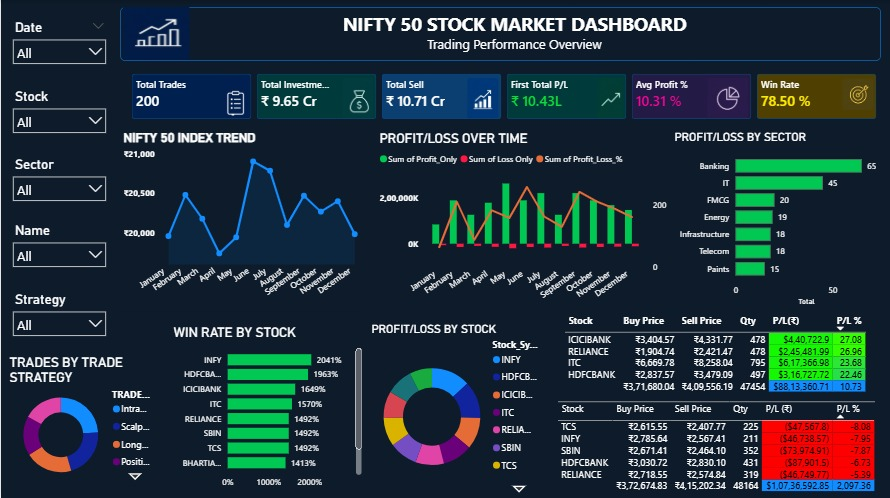

What the dashboard file says about the page in this screenshot:
{"tool":"powerbi","page":{"name":"Page 1","canvas":[1280,720],"ordinal":0},"visuals":[{"type":"shape","box":[964.8,178.6,309.6,254.9],"z":0},{"type":"shape","box":[540,178.6,424.8,266.4],"z":1000},{"type":"shape","box":[171.4,10.1,1095.8,77.8],"z":2000},{"type":"lineChart","title":"NIFTY 50 INDEX TREND","fields":{"Category":["Nifty50_Trading_Data.Date.Variation.Date Hierarchy.Month"],"Y":["Avg(Nifty50_Trading_Data.Nifty50_Index)"]},"box":[171.4,187.2,352.8,260.6],"z":8000},{"type":"lineClusteredColumnComboChart","title":"PROFIT/LOSS OVER TIME","fields":{"Y":["Sum(Nifty50_Trading_Data.Profit_Only)","Sum(Nifty50_Trading_Data.Loss Only)"],"Y2":["Sum(Nifty50_Trading_Data.Profit_Loss_%)"],"Category":["Nifty50_Trading_Data.Date.Variation.Date Hierarchy.Month"]},"box":[540,187.2,424.8,265],"z":10000},{"type":"donutChart","title":"PROFIT/LOSS BY STOCK","fields":{"Category":["Nifty50_Trading_Data.Stock_Symbol"],"Y":["CountNonNull(Nifty50_Trading_Data.Total P/L)"]},"box":[528.5,463.7,259.2,253.4],"z":11000},{"type":"barChart","title":"PROFIT/LOSS BY SECTOR","fields":{"Category":["Nifty50_Trading_Data.Sector"],"Y":["CountNonNull(Nifty50_Trading_Data.Total P/L)"]},"box":[964.8,187.2,309.6,257.8],"z":12000},{"type":"barChart","title":"WIN RATE BY STOCK","fields":{"Category":["Nifty50_Trading_Data.Stock_Symbol"],"Y":["Sum(Nifty50_Trading_Data.Win Rate %)"]},"box":[243.4,466.6,280.8,246.2],"z":13000},{"type":"donutChart","title":"TRADES BY TRADE STRATEGY","fields":{"Category":["Nifty50_Trading_Data.Trade_Strategy"],"Y":["Nifty50_Trading_Data.Total Trade"]},"box":[7.2,509.8,221.8,188.6],"z":14000},{"type":"tableEx","fields":{"Values":["Nifty50_Trading_Data.Is_Top5_Profit","Sum(Nifty50_Trading_Data.Buy_Price)","Sum(Nifty50_Trading_Data.Sell_Price)","Sum(Nifty50_Trading_Data.Quantity)","Sum(Nifty50_Trading_Data.Profit_Loss)","Median(Nifty50_Trading_Data.Profit_Loss_%)"]},"box":[806.4,447.8,470.9,122.4],"z":15000},{"type":"tableEx","fields":{"Values":["Nifty50_Trading_Data.Is_Top5_Loss","Sum(Nifty50_Trading_Data.Buy_Price)","Sum(Nifty50_Trading_Data.Sell_Price)","Sum(Nifty50_Trading_Data.Quantity)","Sum(Nifty50_Trading_Data.Profit_Loss)","Sum(Nifty50_Trading_Data.Profit_Loss_%)"]},"box":[796.3,573.1,478.1,144],"z":16000},{"type":"slicer","fields":{"Values":["Nifty50_Trading_Data.Date.Variation.Date Hierarchy.Month","Nifty50_Trading_Data.Date.Variation.Date Hierarchy.Day"]},"box":[7.2,23,154.1,87.8],"z":17000},{"type":"slicer","fields":{"Values":["Nifty50_Trading_Data.Stock_Symbol"]},"box":[7.2,122.4,154.1,87.8],"z":18000},{"type":"slicer","fields":{"Values":["Nifty50_Trading_Data.Sector"]},"box":[7.2,220.3,154.1,87.8],"z":19000},{"type":"slicer","fields":{"Values":["Nifty50_Trading_Data.Trader_Name"]},"box":[7.2,315.4,154.1,87.8],"z":20000},{"type":"slicer","fields":{"Values":["Nifty50_Trading_Data.Trade_Strategy"]},"box":[7.2,414.7,154.1,87.8],"z":21000},{"type":"textbox","box":[211.7,10.1,1055.5,77.8],"z":22000},{"type":"cardVisual","fields":{"Data":["Nifty50_Trading_Data.Total Trade","Nifty50_Trading_Data.Total Investment","Nifty50_Trading_Data.Total Sell Amount","Min(Nifty50_Trading_Data.Total P/L)","Nifty50_Trading_Data.Avg Profit %","Min(Nifty50_Trading_Data.Win Rate)"]},"box":[171.4,89.3,1108.8,99.4],"z":23000},{"type":"image","box":[175.7,10.1,96.5,76.3],"z":24000}]}

Visuals, with their boxes in screenshot pixels (x1, y1, x2, y2), scaled from the page's 1280x720 canvas onto the 890x498 screenshot:
shape: detection(671, 124, 886, 300)
shape: detection(375, 124, 671, 308)
shape: detection(119, 7, 881, 61)
"NIFTY 50 INDEX TREND" lineChart: detection(119, 129, 364, 310)
"PROFIT/LOSS OVER TIME" lineClusteredColumnComboChart: detection(375, 129, 671, 313)
"PROFIT/LOSS BY STOCK" donutChart: detection(367, 321, 548, 496)
"PROFIT/LOSS BY SECTOR" barChart: detection(671, 129, 886, 308)
"WIN RATE BY STOCK" barChart: detection(169, 323, 364, 493)
"TRADES BY TRADE STRATEGY" donutChart: detection(5, 353, 159, 483)
tableEx - Nifty50_Trading_Data.Is_Top5_Profit x Sum(Nifty50_Trading_Data.Buy_Price): detection(561, 310, 888, 394)
tableEx - Nifty50_Trading_Data.Is_Top5_Loss x Sum(Nifty50_Trading_Data.Buy_Price): detection(554, 396, 886, 496)
slicer - Nifty50_Trading_Data.Date.Variation.Date Hierarchy.Month x Nifty50_Trading_Data.Date.Variation.Date Hierarchy.Day: detection(5, 16, 112, 77)
slicer - Nifty50_Trading_Data.Stock_Symbol: detection(5, 85, 112, 145)
slicer - Nifty50_Trading_Data.Sector: detection(5, 152, 112, 213)
slicer - Nifty50_Trading_Data.Trader_Name: detection(5, 218, 112, 279)
slicer - Nifty50_Trading_Data.Trade_Strategy: detection(5, 287, 112, 348)
textbox: detection(147, 7, 881, 61)
cardVisual - Nifty50_Trading_Data.Total Trade x Nifty50_Trading_Data.Total Investment: detection(119, 62, 889, 131)
image: detection(122, 7, 189, 60)
